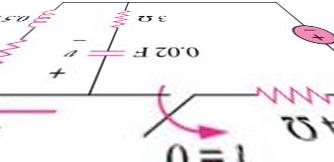inductor: (23, 8, 64, 31)
